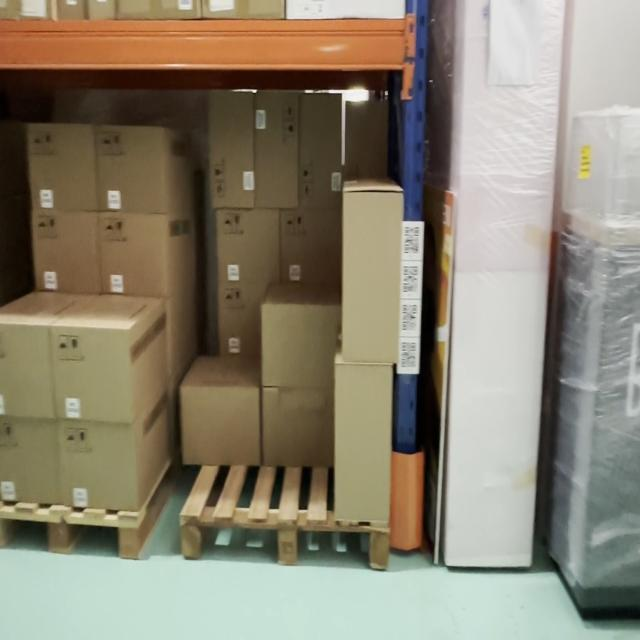box: (343, 192, 402, 360), (336, 362, 389, 522), (50, 327, 132, 423), (59, 419, 136, 512), (28, 124, 97, 209), (97, 126, 165, 212), (32, 209, 100, 294), (263, 304, 334, 382), (100, 215, 168, 296), (185, 389, 259, 461), (264, 388, 334, 462), (0, 324, 55, 417), (0, 418, 60, 503), (211, 94, 253, 205), (280, 210, 340, 287), (257, 92, 297, 206), (300, 94, 340, 205), (221, 210, 277, 286), (347, 102, 387, 176), (219, 290, 260, 356)
